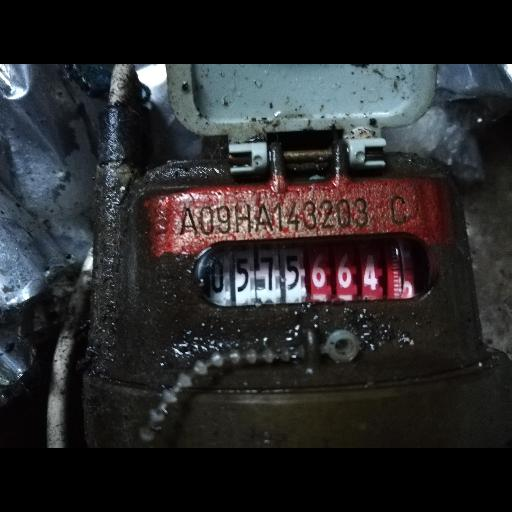0: (209, 253, 230, 301)
4: (360, 243, 385, 301)
5: (233, 252, 257, 307), (283, 246, 305, 304)
6: (332, 243, 358, 302), (307, 245, 333, 302)
7: (258, 247, 283, 305)
border_water_meter_number: (192, 236, 431, 310)
